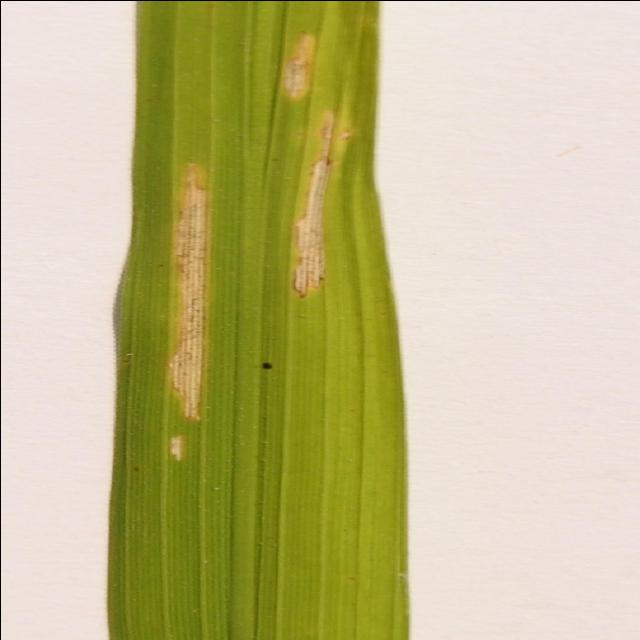Bacterial leaf blight: (150, 134, 223, 472), (262, 100, 356, 306), (242, 20, 330, 110)
